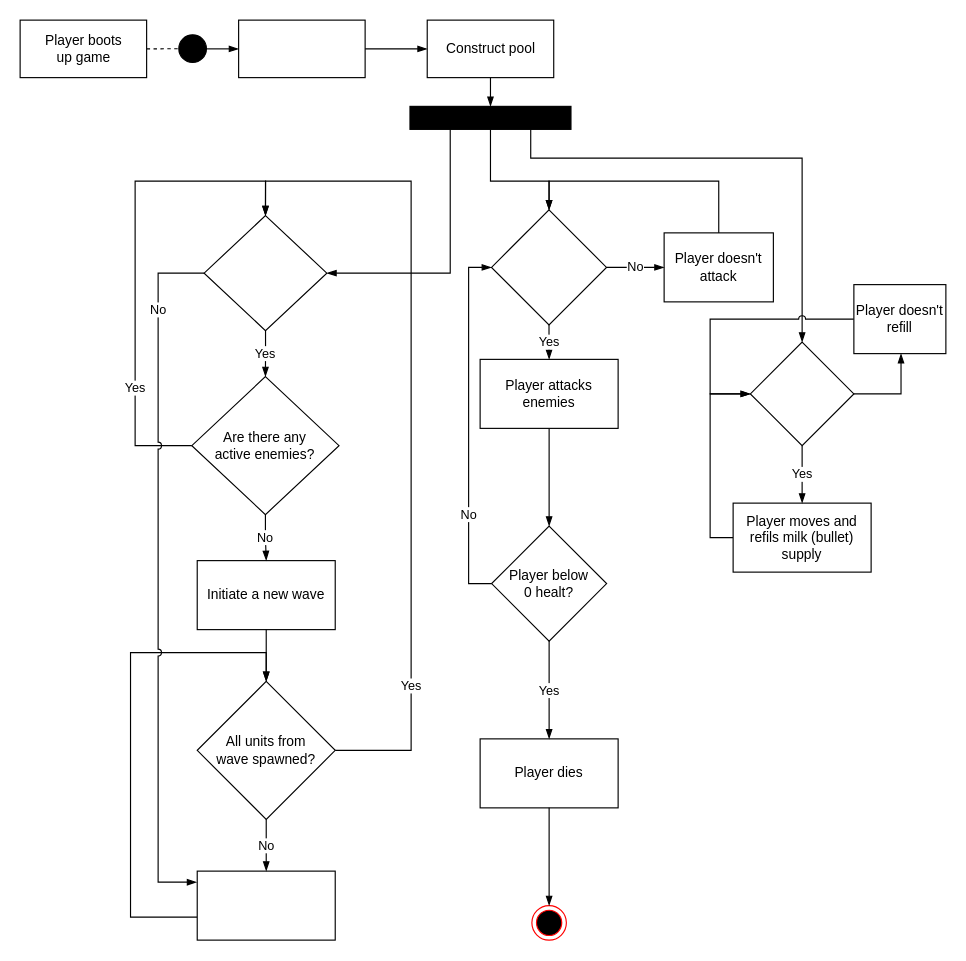
This 966x961 diagram has some shape labels left out. The shapes that lost their labels are listed below. From the top down, each one's centre as x and y in pixels, then its label:
At point 301,48: "Receive wave array".
At point 265,272: "Is wave available?".
At point 548,267: "Milk (bullets) available?".
At point 801,393: "Does the player give input?".
At point 265,905: "Spawn enemy".
